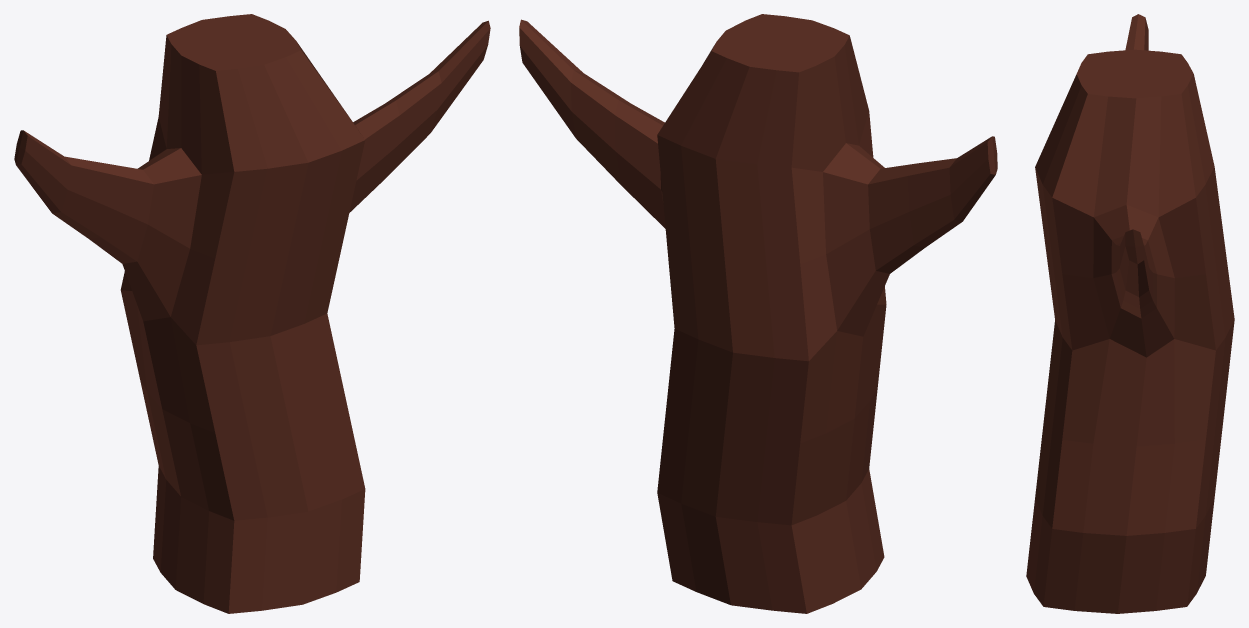
Rendered from Leafless tree.fbx.
3 renders of one model, left to right at view 1: azimuth 30°, elevation 25°; view 2: azimuth 150°, elevation 25°; view 3: azimuth 270°, elevation 25°, orthographic. The views are drawn at different scales.
Parts seen in each view (by area): view 1: Plane; view 2: Plane; view 3: Plane.
Boxes of the visible parts, box(x1,y1,x2,y2) form: Plane: box(14, 14, 490, 613); Plane: box(519, 14, 997, 613); Plane: box(1026, 14, 1234, 613).
Bounding box in the file's own units: 557 × 595 × 226.
